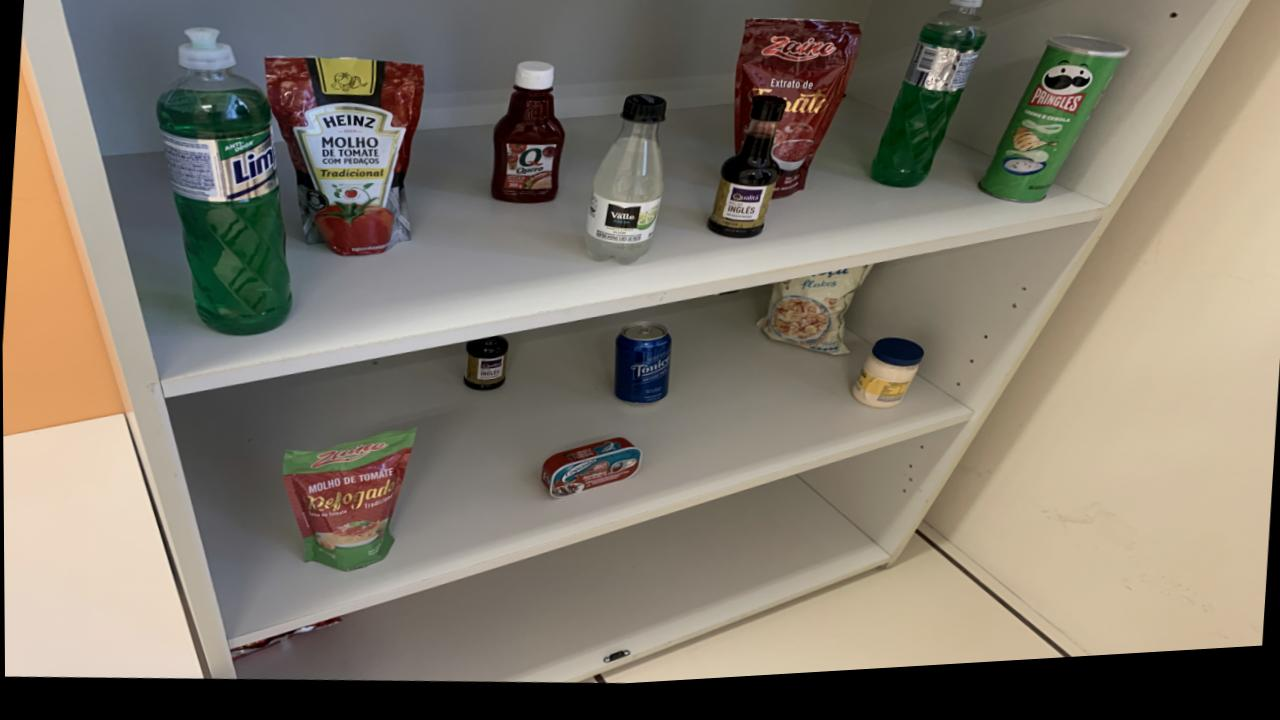Detergent-Cleanup_Items: (156, 30, 292, 338), (869, 0, 985, 197)
English_Sauce-Pantry_Items: (706, 105, 786, 246), (464, 342, 508, 396)
Flakes-Snacks: (757, 275, 870, 365)
Ketchup-Pantry_Items: (490, 66, 564, 209)
Mayonnaise-Pantry_Items: (852, 347, 923, 419)
Pringles-Snacks: (980, 47, 1129, 215)
Soda-Drinks: (585, 101, 666, 272)
Tomato_Sauce-Pantry_Items: (264, 60, 424, 260), (732, 28, 860, 207), (280, 434, 416, 575)
Tonic-Drinks: (613, 330, 671, 411)
Tuna_Can-Pantry_Items: (540, 444, 641, 505)
